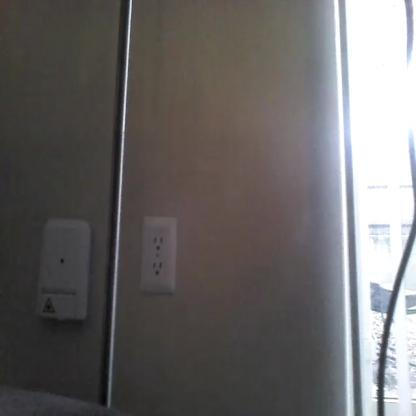OUTLET: (138, 215, 177, 294)
